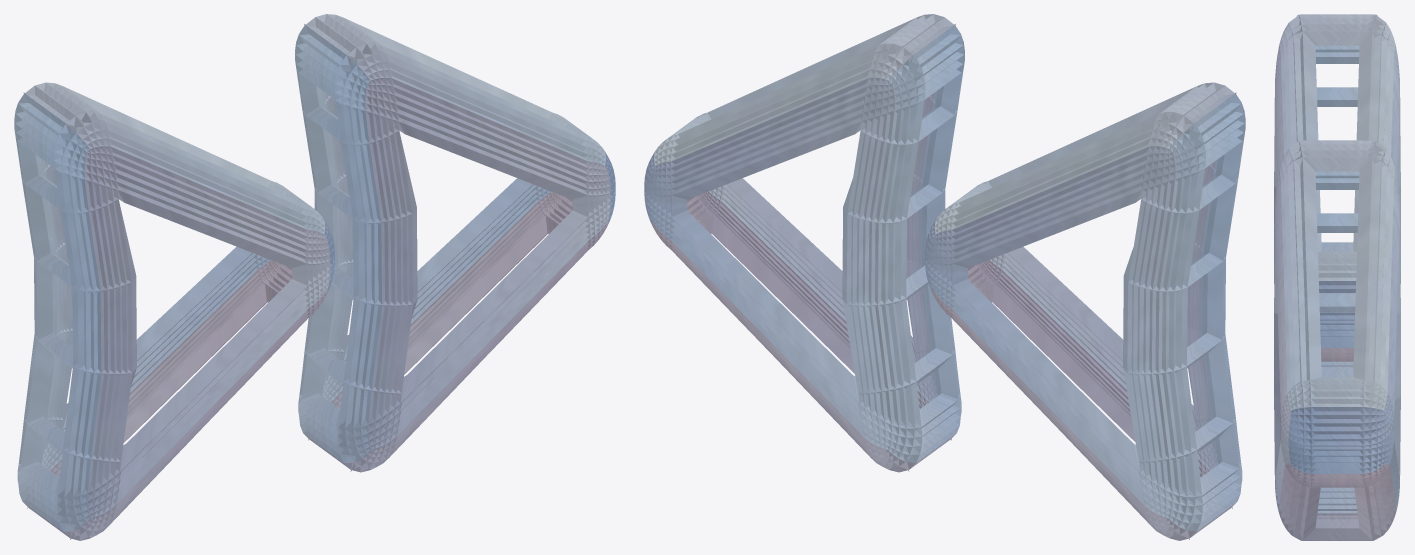
Rendered from fast_forward.glb.
The picture shows the model from 3 angles, left to right: view 1: azimuth 30°, elevation 25°; view 2: azimuth 150°, elevation 25°; view 3: azimuth 270°, elevation 25°; orthographic projection. The views are drawn at different scales.
Parts seen in each view (by area): view 1: Arrow_Material.001_0.002, Arrow_Material.001_0.001; view 2: Arrow_Material.001_0.002, Arrow_Material.001_0.001; view 3: Arrow_Material.001_0.001, Arrow_Material.001_0.002.
Part boxes in pixels (x1,y1,x2,y2): Arrow_Material.001_0.002: [14, 82, 334, 540]; Arrow_Material.001_0.001: [295, 14, 615, 472]; Arrow_Material.001_0.002: [925, 82, 1245, 540]; Arrow_Material.001_0.001: [644, 14, 964, 472]; Arrow_Material.001_0.001: [1274, 140, 1400, 540]; Arrow_Material.001_0.002: [1274, 14, 1400, 368].
Bounding box in the file's own units: 0.5835 × 0.4221 × 0.1235.
Materials: 1 (1 with a texture image).
